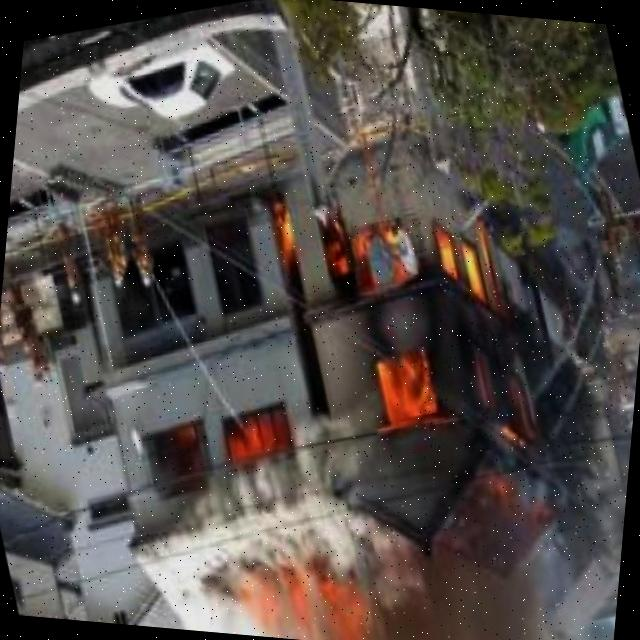fire: (224, 140, 596, 576), (210, 534, 392, 640), (152, 386, 302, 489)
